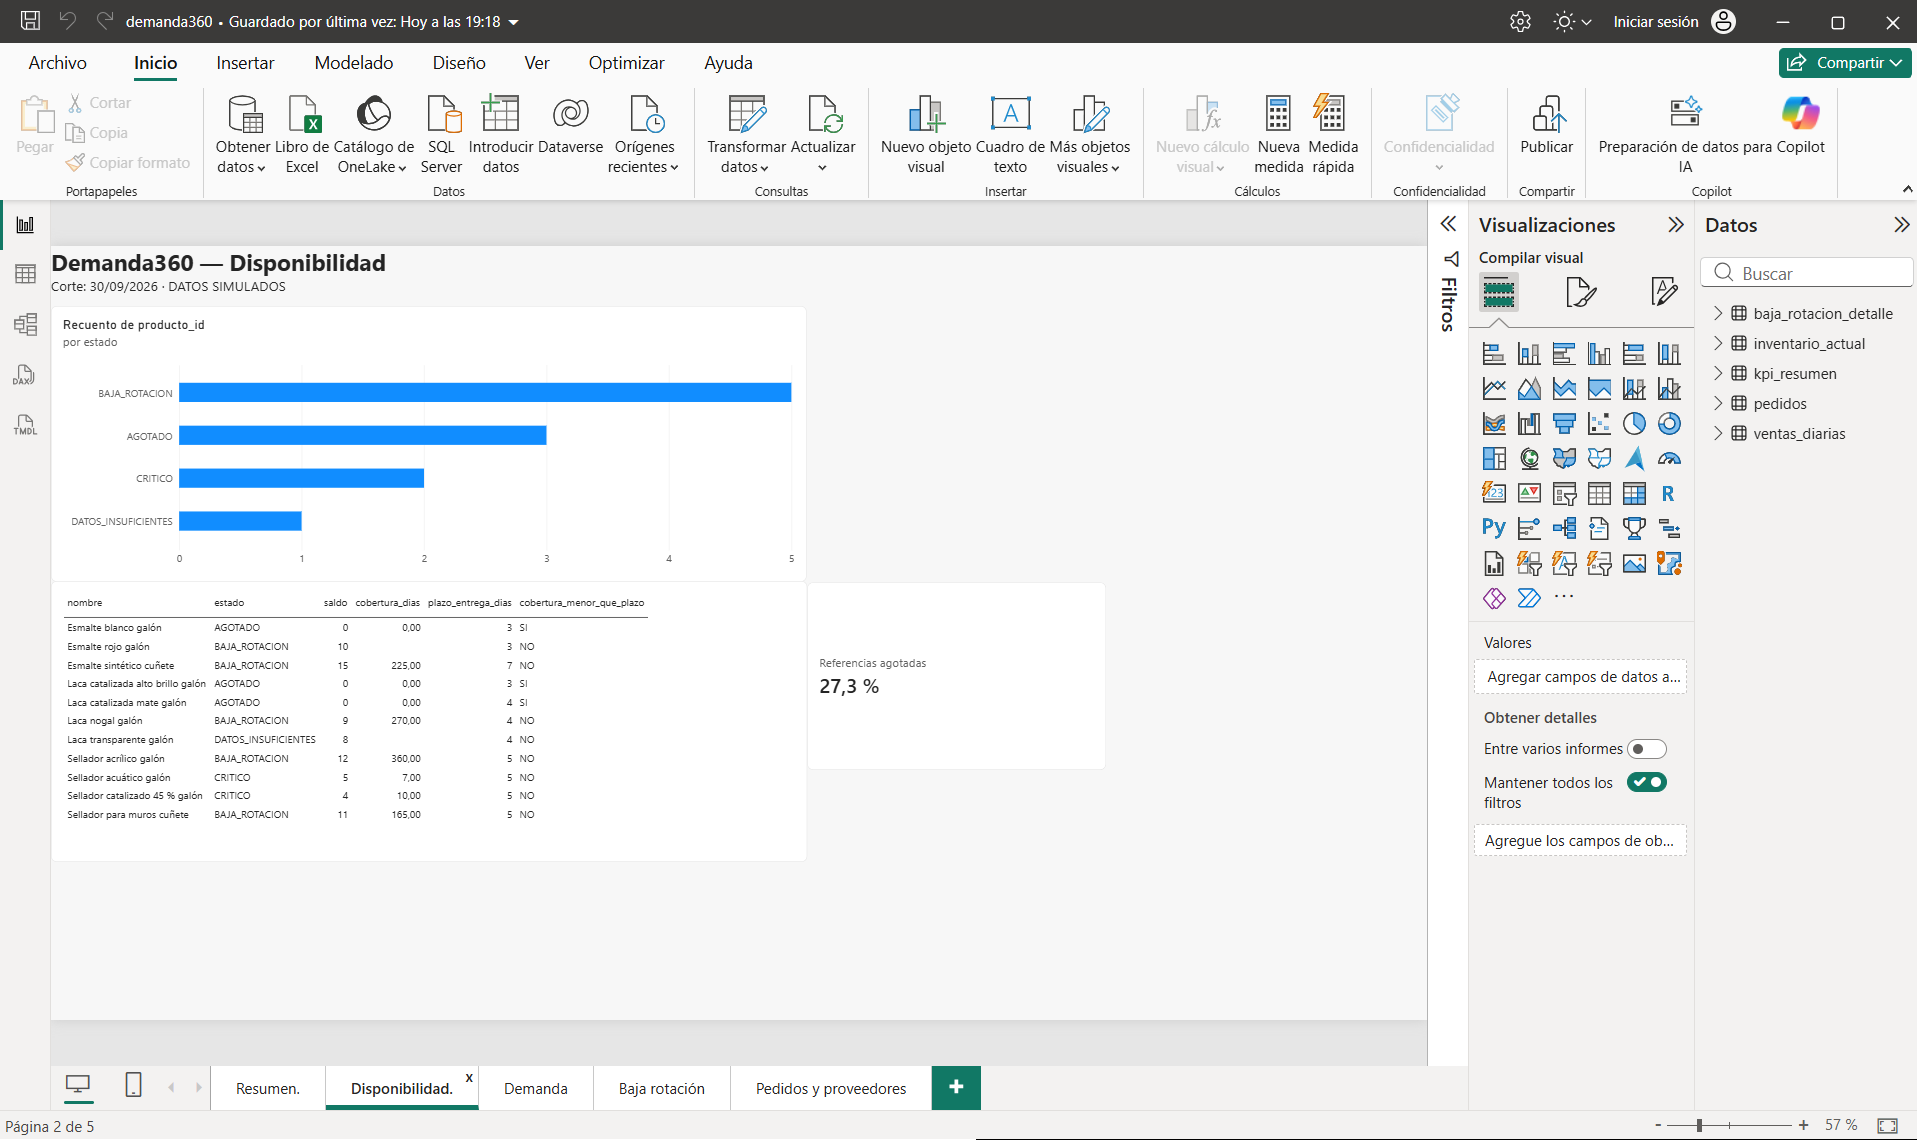

The dashboard page shown, as its layout file describes it:
{"tool":"powerbi","page":{"name":"Disponibilidad.","canvas":[1920,1080],"ordinal":1},"visuals":[{"type":"cardVisual","fields":{"Data":["kpi_resumen.Referencias agotadas"]},"box":[1055.7,468.6,417,262.7],"z":0},{"type":"textbox","box":[0,0,834.4,83.3],"z":1000},{"type":"clusteredBarChart","fields":{"Category":["inventario_actual.estado"],"Y":["CountNonNull(inventario_actual.producto_id)"]},"box":[0,83.3,1054.3,384.7],"z":2000},{"type":"tableEx","fields":{"Values":["inventario_actual.nombre","inventario_actual.estado","inventario_actual.saldo","inventario_actual.cobertura_dias","inventario_actual.plazo_entrega_dias","inventario_actual.cobertura_menor_que_plazo"]},"box":[0,468,1055.1,392],"z":2001}]}

Visuals, with their boxes on the page's 1920x1080 design canvas (x1, y1, x2, y2). These are canvas units, not pixel positions in the 1917x1140 screenshot, which may show the page scaled, cropped or inside an application window:
cardVisual - kpi_resumen.Referencias agotadas: pyautogui.locateOnScreen(1056, 469, 1473, 731)
textbox: pyautogui.locateOnScreen(0, 0, 834, 83)
clusteredBarChart - inventario_actual.estado x CountNonNull(inventario_actual.producto_id): pyautogui.locateOnScreen(0, 83, 1054, 468)
tableEx - inventario_actual.nombre x inventario_actual.estado: pyautogui.locateOnScreen(0, 468, 1055, 860)
